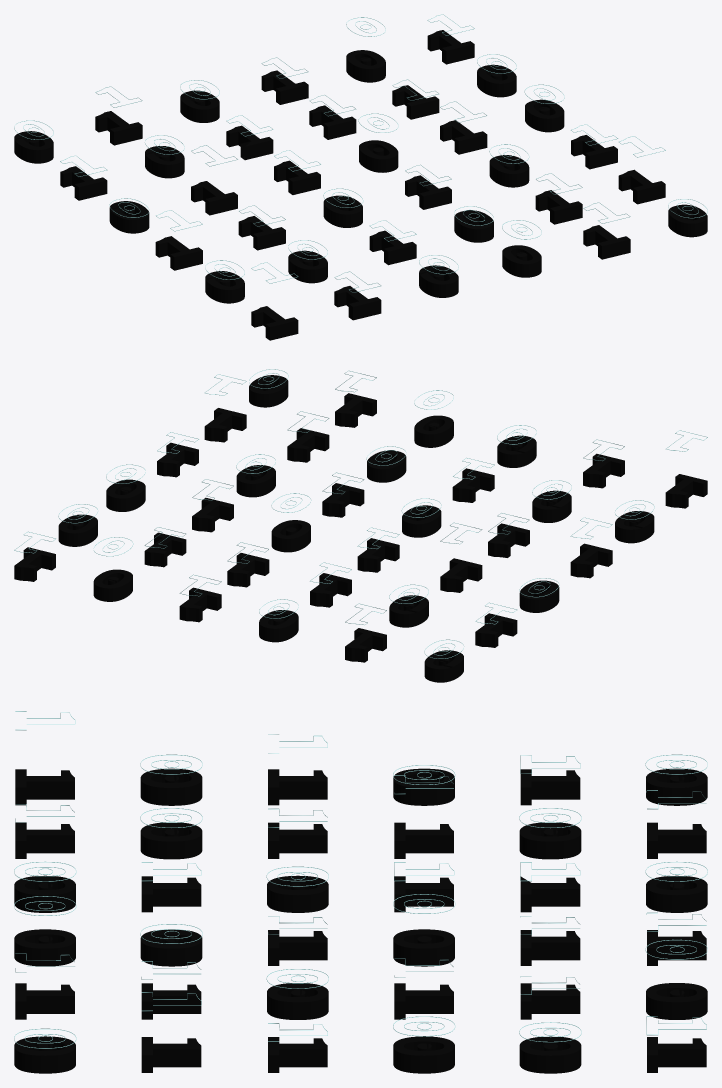
The model's file is Data01.gltf.
3 renders of one model, top to bottom at view 1: azimuth 30°, elevation 25°; view 2: azimuth 150°, elevation 25°; view 3: azimuth 270°, elevation 25°, orthographic. The views are drawn at different scales.
Parts seen in each view (by area): view 1: Curve.068, Curve.064, Curve.059, Curve.071, Curve.067, Curve.065, Curve.063, Curve.057, Curve.058, Curve.066, Curve.061, Curve.060 (+24 smaller); view 2: Curve.068, Curve.071, Curve.069, Curve.059, Curve.060, Curve.066, Curve.063, Curve.062, Curve.067, Curve.064, Curve.061, Curve.057 (+24 smaller); view 3: Curve.057, Curve.069, Curve.056, Curve.066, Curve.061, Curve.065, Curve.059, Curve.063, Curve.060, Curve.068, Curve.071, Curve.062 (+24 smaller).
Part boxes in pixels (box(x1,y1,x2,y2)): Curve.068: box(109, 201, 149, 233); Curve.064: box(489, 155, 529, 187); Curve.059: box(502, 245, 541, 277); Curve.071: box(14, 131, 53, 163); Curve.067: box(346, 50, 385, 82); Curve.065: box(525, 99, 564, 132); Curve.063: box(359, 140, 398, 172); Curve.057: box(205, 271, 244, 303); Curve.058: box(419, 265, 458, 297); Curve.066: box(477, 64, 516, 97); Curve.061: box(454, 210, 493, 242); Curve.060: box(668, 204, 707, 237); Curve.068: box(519, 580, 559, 612); Curve.071: box(424, 650, 463, 682); Curve.069: box(389, 595, 428, 627); Curve.059: box(414, 415, 453, 447); Curve.060: box(249, 375, 288, 407); Curve.066: box(58, 514, 97, 546); Curve.063: box(271, 520, 310, 552); Curve.062: box(402, 505, 441, 537); Curve.067: box(93, 569, 132, 601); Curve.064: box(236, 465, 275, 497); Curve.061: box(367, 450, 406, 482); Curve.057: box(615, 511, 654, 543); Curve.057: box(140, 768, 202, 805); Curve.069: box(519, 822, 581, 859); Curve.056: box(140, 822, 202, 859); Curve.066: box(519, 1036, 581, 1073); Curve.061: box(140, 929, 202, 966); Curve.065: box(393, 1036, 454, 1073); Curve.059: box(14, 929, 75, 966); Curve.063: box(393, 929, 454, 966); Curve.060: box(14, 1036, 75, 1073); Curve.068: box(393, 768, 454, 805); Curve.071: box(646, 768, 707, 805); Curve.062: box(267, 875, 328, 912).
Size of the model in its own units: 5.7 by 0.6994 by 5.81.
